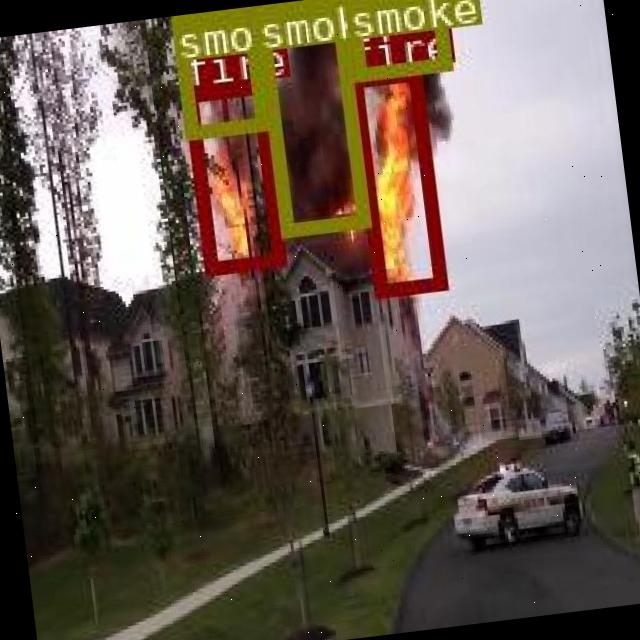fire: (346, 64, 444, 294), (180, 79, 282, 273)
smoke: (251, 0, 366, 235), (169, 6, 266, 135), (343, 0, 446, 77)
